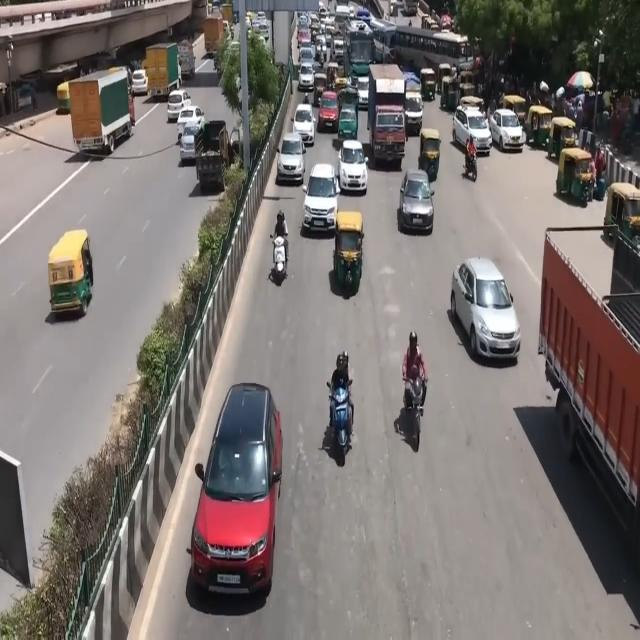auto: (47, 228, 93, 318), (333, 210, 365, 294), (555, 146, 594, 204), (603, 180, 639, 241), (546, 115, 578, 163), (525, 104, 552, 149), (419, 127, 441, 181), (502, 93, 528, 129), (440, 75, 459, 111), (420, 67, 436, 102), (56, 81, 72, 114), (459, 81, 475, 105)
bike-auto: (327, 368, 355, 458), (402, 333, 428, 410), (273, 208, 289, 266), (463, 148, 478, 182)
